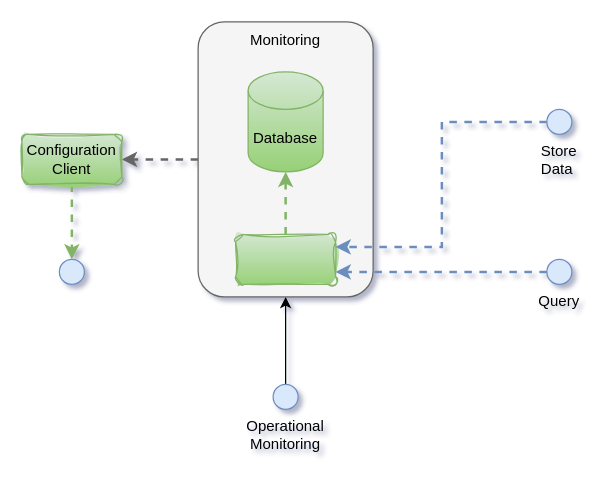
The diagram is 609 pixels wide and 484 high, and some of its shapes have lost their labels. The shapes that lost their labels are listed below. From the top down, each one's centre as x and y in pixels, then its label:
At (71,271): "Download Configuration".
At (285,258): "Monitoring service".
